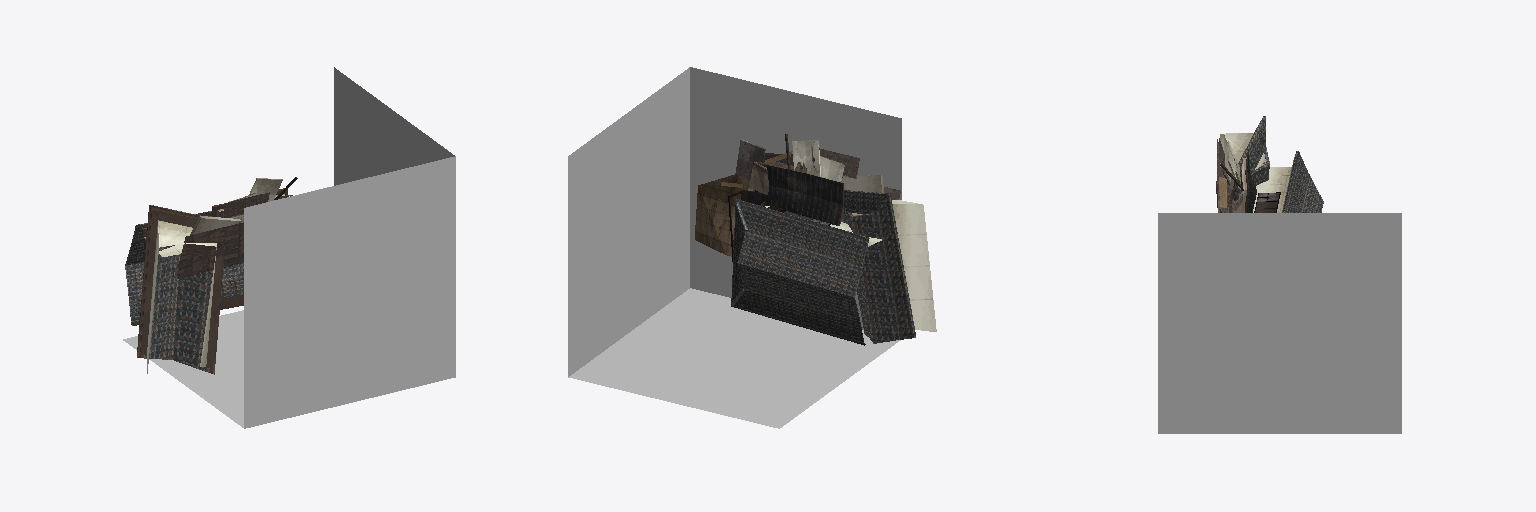
3 views of the same model, side by side, from view 1: azimuth 30°, elevation 25°; view 2: azimuth 150°, elevation 25°; view 3: azimuth 270°, elevation 25° (orthographic).
Parts seen in each view (by area): view 1: Cube.007_Cube.013, Cube.008, Cube, Plane.003, Plane.005; view 2: Cube.007_Cube.013, Cube, Cube.008, Cube.002, Plane.002, Cube.006, Cube.012, Cube.011, Cube.004; view 3: Cube.007_Cube.013, Cube, Cube.008, Cube.002.
Boxes of the visible parts, box(x1,y1,x2,y2) form: Cube.007_Cube.013: box(123, 67, 455, 428); Cube.008: box(137, 205, 223, 374); Cube: box(125, 211, 243, 325); Plane.003: box(175, 222, 243, 279); Plane.005: box(223, 192, 269, 217); Cube.007_Cube.013: box(568, 67, 901, 428); Cube: box(731, 199, 881, 345); Cube.008: box(843, 190, 936, 343); Cube.002: box(767, 165, 843, 225); Plane.002: box(695, 151, 792, 256); Cube.006: box(792, 140, 820, 176); Cube.012: box(735, 139, 765, 180); Cube.011: box(841, 174, 883, 192); Cube.004: box(749, 162, 784, 194); Cube.007_Cube.013: box(1158, 213, 1401, 433); Cube: box(1253, 151, 1323, 212); Cube.008: box(1224, 116, 1269, 201); Cube.002: box(1241, 151, 1256, 212).
Bounding box in the file's own units: 12.44 × 9.48 × 9.48.
3 materials, 2 textured.